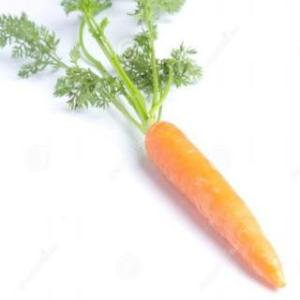carrot: (135, 112, 291, 292)
